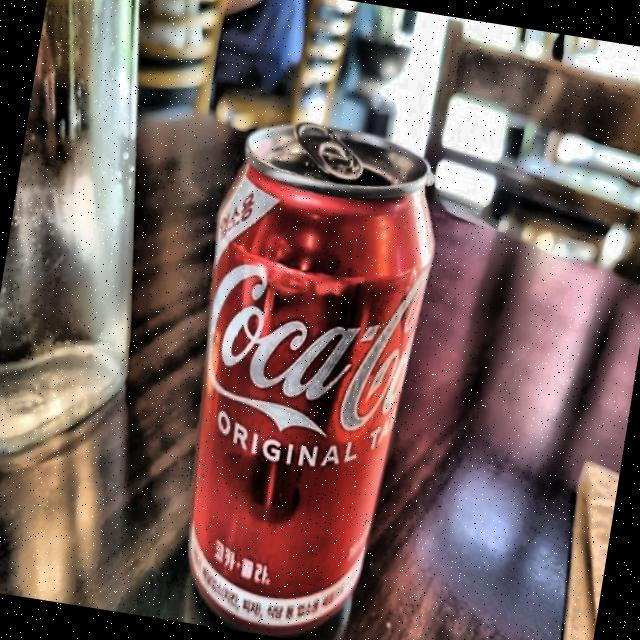cocacola: (165, 121, 435, 640)
